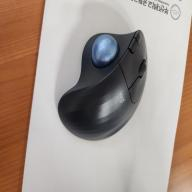mouse: (56, 28, 149, 142)
